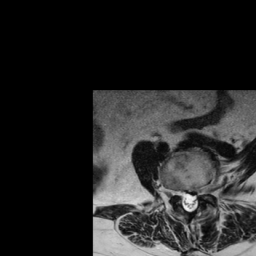CCS_normal: (187, 187, 192, 216)
LFS_normal: (199, 180, 206, 200)
LLS_normal: (193, 189, 199, 211)
RFS_stenosis: (174, 183, 180, 201)
RLS_normal: (181, 187, 187, 214)
